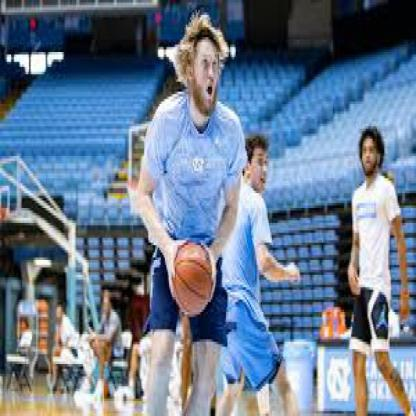basketball: (171, 237, 214, 317)
